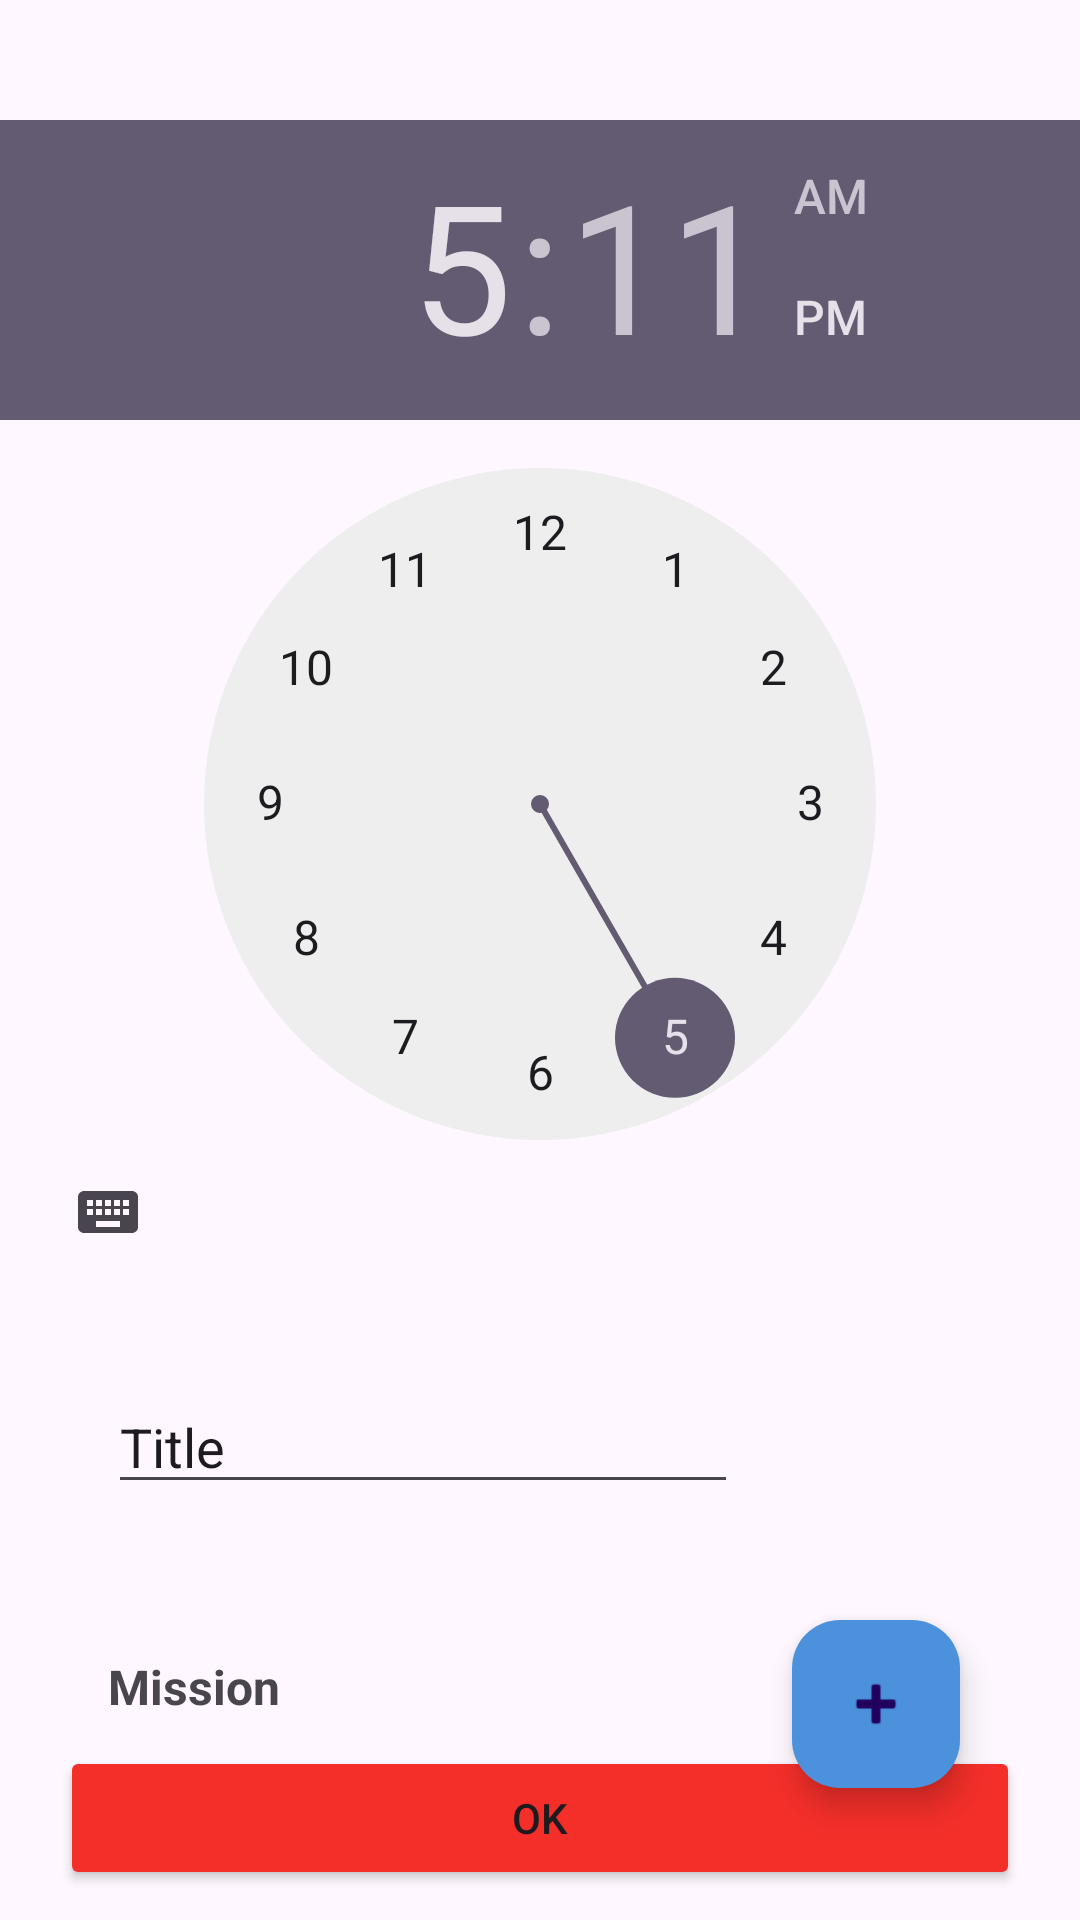

Locate icon controls on the screen. Image size 1080*1920, boxes as (x1, y1, x2, y2).
add: (792, 1620, 960, 1788)
